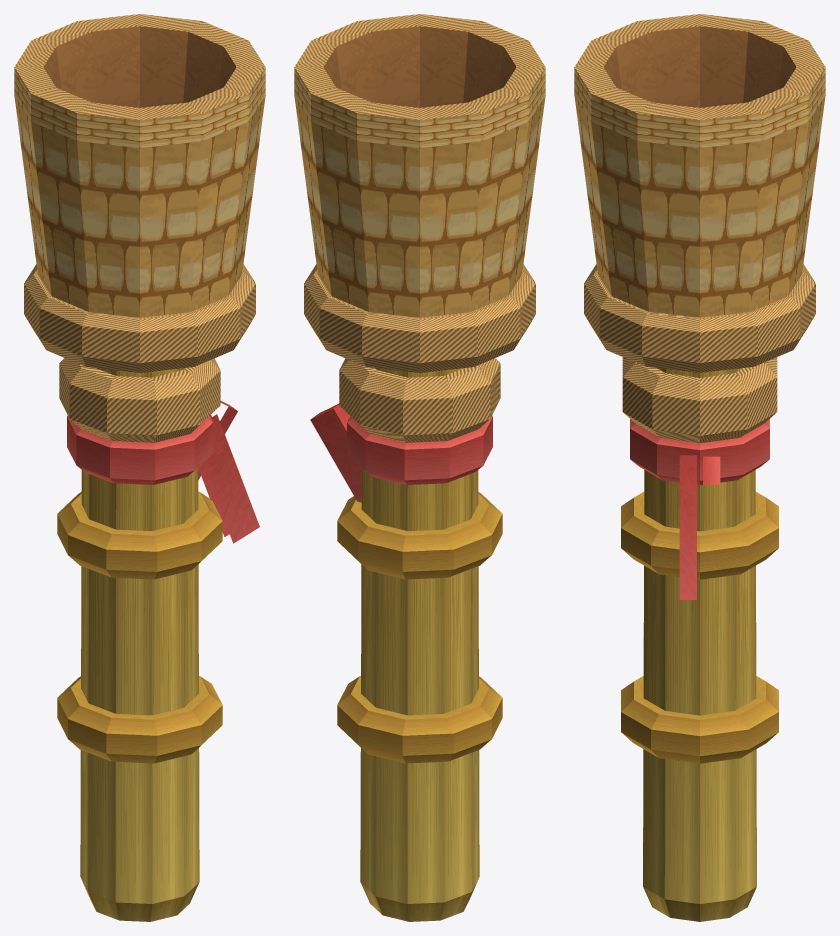
Rendered from tiki_torch_in.glb.
3 renders of one model, left to right at view 1: azimuth 30°, elevation 25°; view 2: azimuth 150°, elevation 25°; view 3: azimuth 270°, elevation 25°, orthographic.
Parts seen in each view (by area): view 1: tiki_torch; view 2: tiki_torch; view 3: tiki_torch.
Part boxes in pixels (x1,y1,x2,y2): tiki_torch: (14,14,265,921); tiki_torch: (294,14,545,921); tiki_torch: (574,14,825,921).
Bounding box in the file's own units: 2.61 × 9.52 × 2.6.
1 material, 1 textured.
